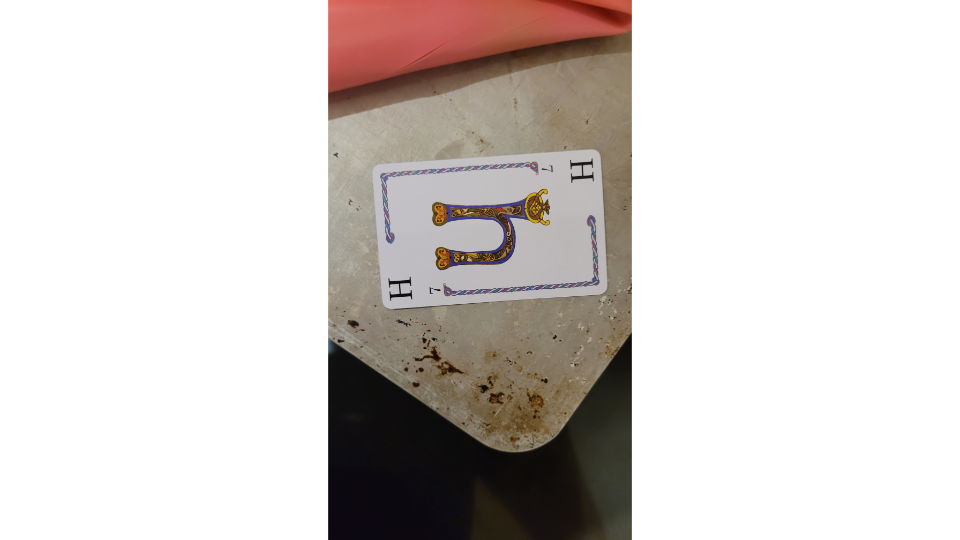H: (370, 148, 614, 312)
